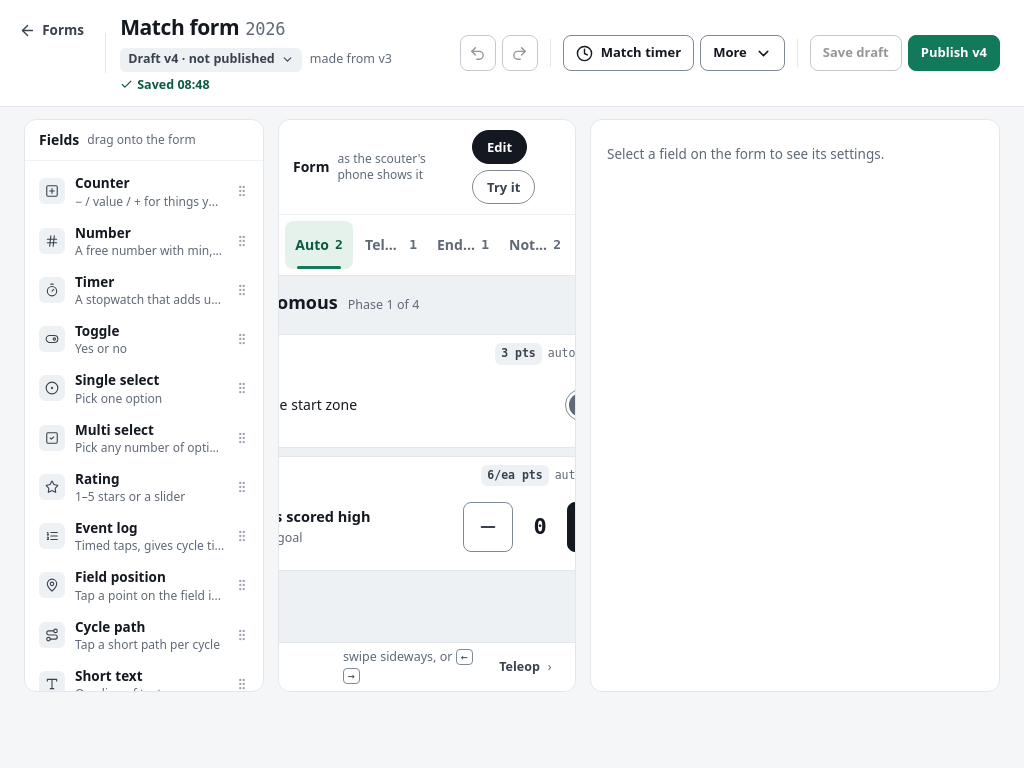
Test: Try it: the live preview (task 1.31) › renders inside the canvas's phone-width column (≤ 410 px), and the side pane shows the would-be-saved JSON
The width and height of the screenshot is (1024, 768).
Expected: the element "Form" is shown, [278, 119, 576, 692]
Expected: the element "What this entry would save" is not shown
Click the button "Try it": x=504, y=187 [472, 170, 535, 204]
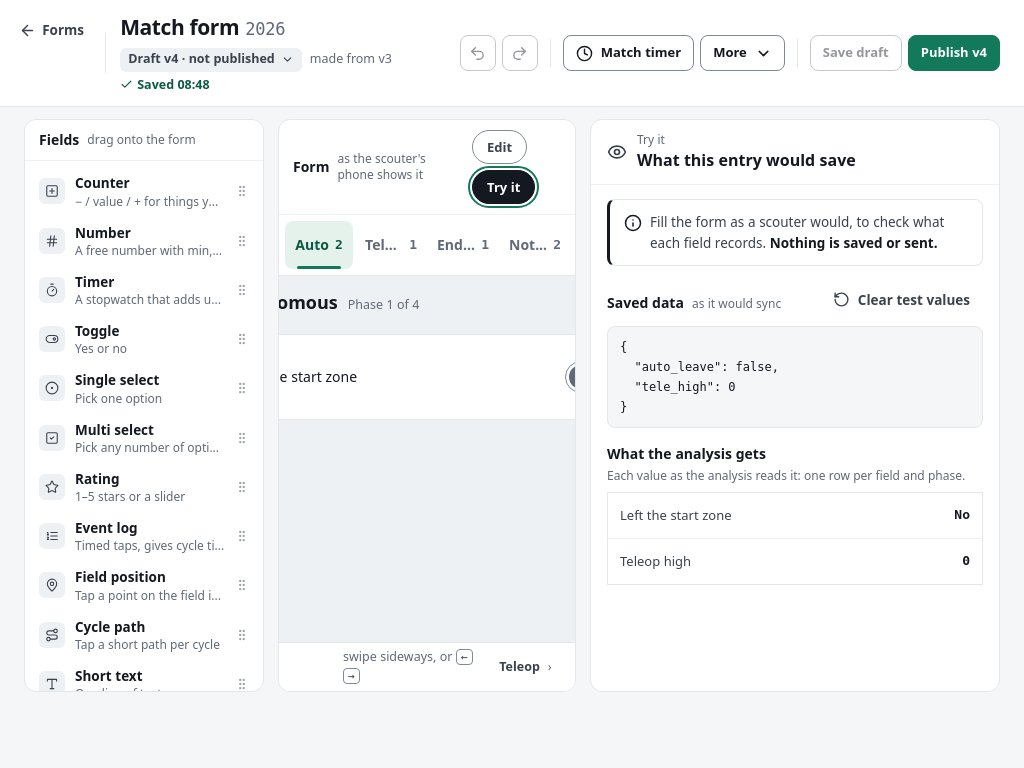
Expected: the element named "Try it" is shown, [279, 276, 575, 420]
Now the text "Nothing is saved or sent." is shown, box [770, 234, 938, 252]
Now the rows read "Left the start zoneNo", "Teleop high0", in this order, box [608, 493, 982, 539]; [608, 539, 982, 585]
